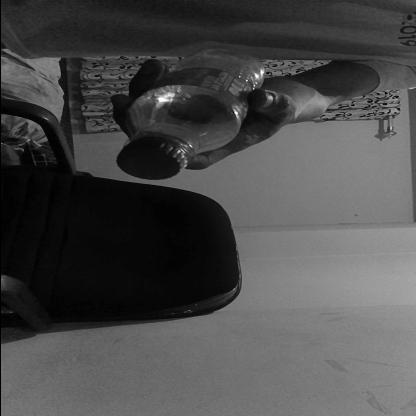plastic_bottles: (120, 46, 264, 180)
